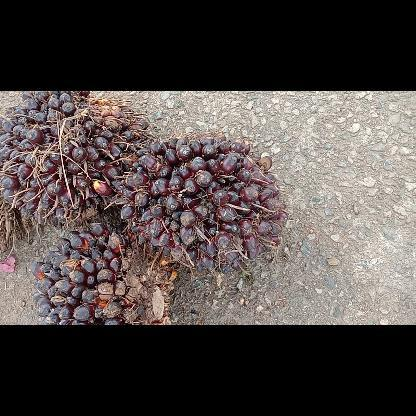TBS mentah: (121, 134, 290, 270), (3, 91, 146, 221), (30, 220, 172, 324)
